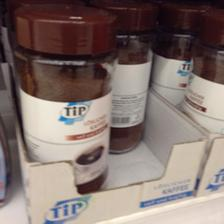Kaffee: (11, 4, 108, 192), (104, 2, 154, 154)
